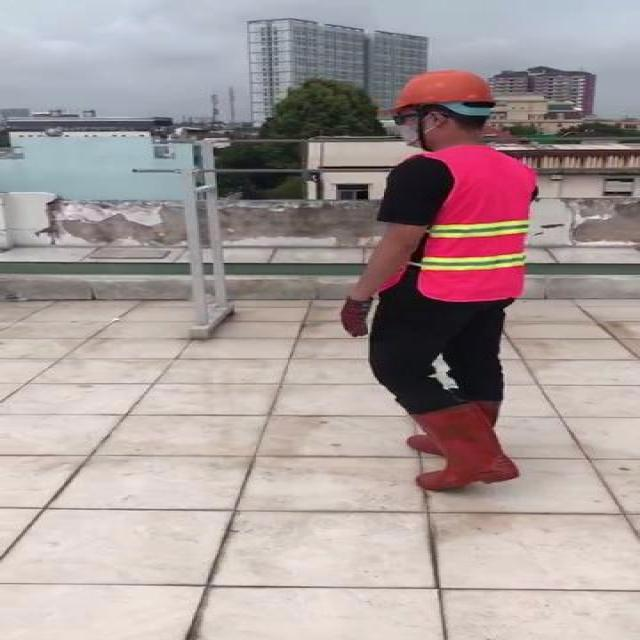boots: (404, 403, 519, 492)
hand_glove: (339, 296, 372, 336)
head_helmet: (378, 71, 495, 114)
person: (335, 68, 541, 492)
vest: (393, 147, 535, 301)
